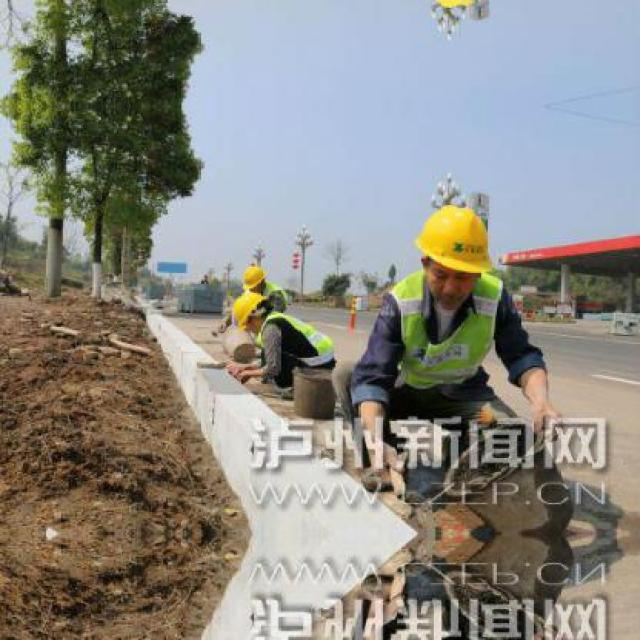helmet: (408, 195, 490, 306), (225, 292, 270, 336), (242, 262, 269, 292)
